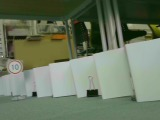speed_10: (5, 59, 25, 74)
